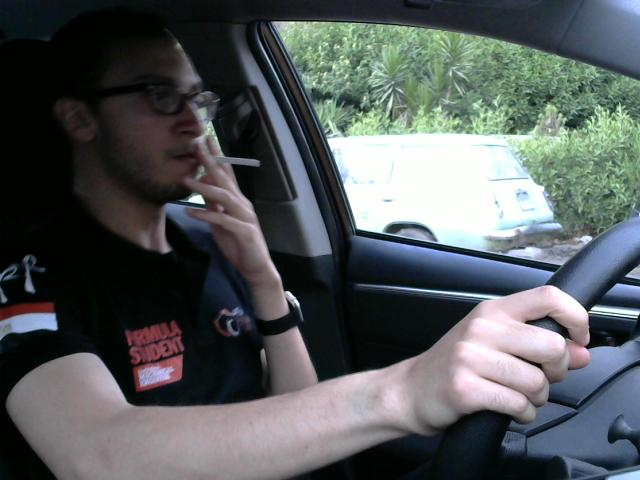Smoking: (192, 151, 265, 172)
